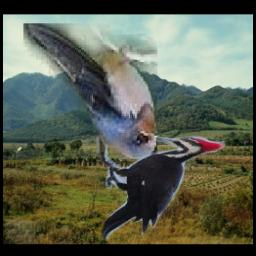Swallow: (24, 24, 158, 160)
Woodpecker: (96, 137, 225, 242)
